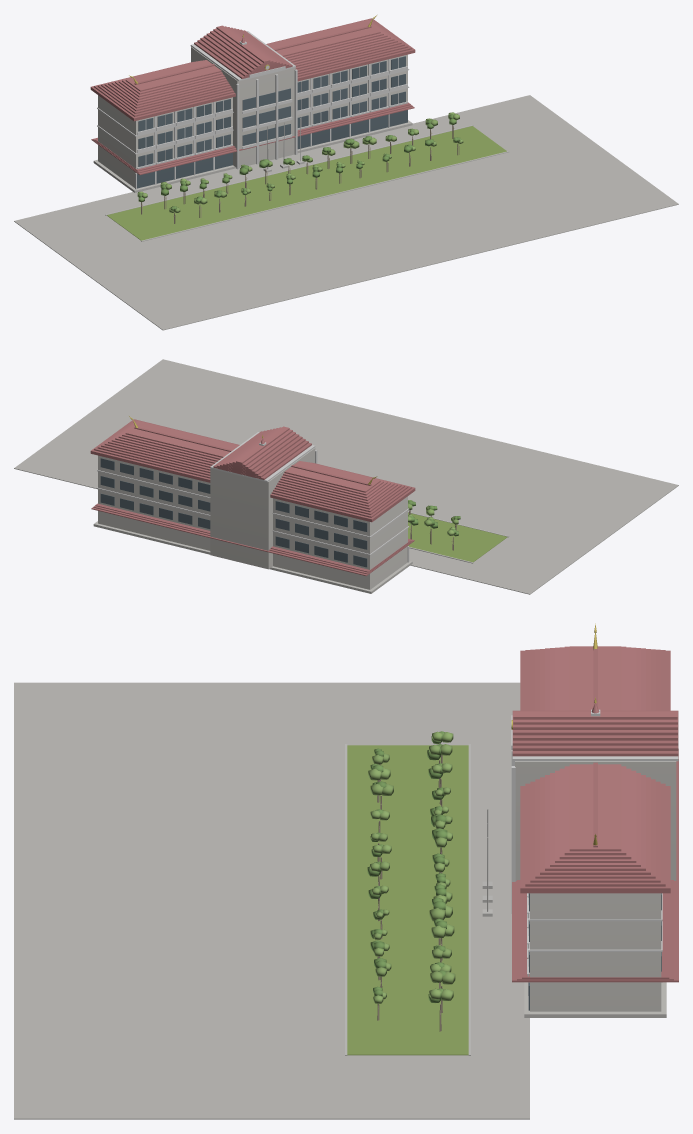
File: institute-block.glb
3 renders of one model, top to bottom at view 1: azimuth 30°, elevation 25°; view 2: azimuth 150°, elevation 25°; view 3: azimuth 270°, elevation 25°, orthographic. The views are drawn at different scales.
Size of the model in its own units: 110 by 23.12 by 70.9.
